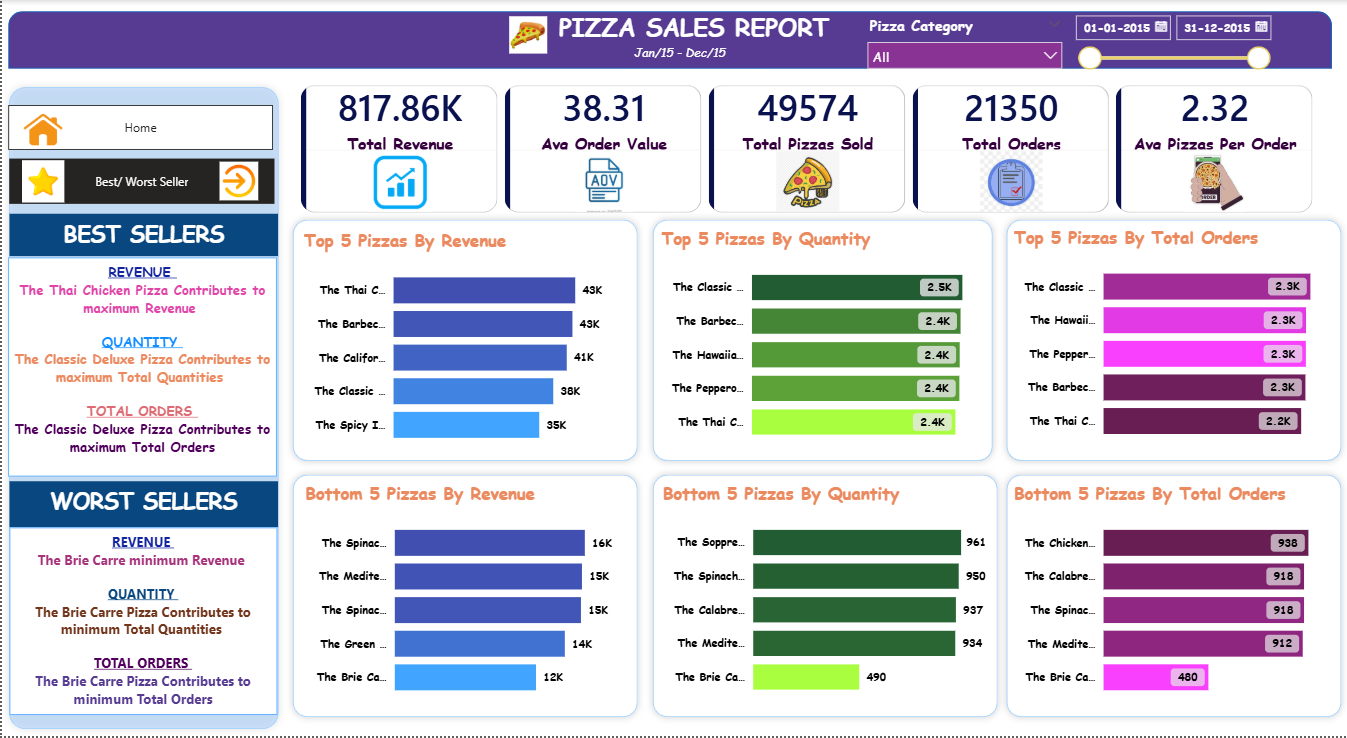

The page's visual inventory and layout, read from the dashboard file:
{"tool":"powerbi","page":{"name":"Best/ Worst Seller","canvas":[1500,820],"ordinal":1},"visuals":[{"type":"shape","box":[0,89.1,316.1,731.2],"z":0},{"type":"cardVisual","fields":{"Data":["pizza_sales.Total Revenue","pizza_sales.Avg Order Value","pizza_sales.Total Pizzas Sold","pizza_sales.Total Orders","pizza_sales.Avg Pizzas Per Order"]},"box":[316.1,78,1165.7,176.9],"z":1000},{"type":"shape","box":[7,12.5,1474.8,64.1],"z":2000},{"type":"textbox","box":[615.3,5.6,315.3,54.2],"z":3000},{"type":"textbox","box":[698.6,44.4,147.2,30.6],"z":4000},{"type":"image","box":[557.1,18.1,58.5,41.8],"z":5000},{"type":"shape","box":[316.7,236.1,400,284.7],"z":6000},{"type":"textbox","box":[8.4,238.1,299.4,47.4],"z":7000},{"type":"textbox","box":[7,286.9,299.4,243.7],"z":8000},{"type":"textbox","box":[8.4,536.2,299.4,51.5],"z":9000},{"type":"textbox","box":[8.4,587.7,298,208.9],"z":10000},{"type":"slicer","fields":{"Values":["pizza_sales.pizza_category"]},"box":[954.2,12.5,237.5,65.3],"z":11000},{"type":"slicer","fields":{"Values":["pizza_sales.order_date"]},"box":[1183.3,6.9,237.5,75],"z":12000},{"type":"shape","box":[716.7,236.1,394.4,284.7],"z":13000},{"type":"shape","box":[1111.1,236.1,388.9,284.7],"z":14000},{"type":"shape","box":[316.7,520.8,400,286.1],"z":15000},{"type":"shape","box":[716.7,520.8,400,286.1],"z":16000},{"type":"shape","box":[1111.1,520.8,388.9,286.1],"z":17000},{"type":"barChart","title":"Top 5 Pizzas By Revenue","fields":{"Category":["pizza_sales.pizza_name"],"Y":["pizza_sales.Total Revenue"]},"box":[331.9,254.2,366.7,254.2],"z":18000},{"type":"barChart","title":"Bottom 5 Pizzas By Revenue","fields":{"Category":["pizza_sales.pizza_name"],"Y":["pizza_sales.Total Revenue"]},"box":[333.3,536.1,366.7,254.2],"z":19000},{"type":"barChart","title":"Top 5 Pizzas By Quantity","fields":{"Category":["pizza_sales.pizza_name"],"Y":["pizza_sales.Total Pizzas Sold"]},"box":[729.8,252.1,370.5,253.5],"z":20000},{"type":"barChart","title":"Bottom 5 Pizzas By Quantity","fields":{"Category":["pizza_sales.pizza_name"],"Y":["pizza_sales.Total Pizzas Sold"]},"box":[731.2,536.2,370.5,253.5],"z":21000},{"type":"barChart","title":"Top 5 Pizzas By Total Orders","fields":{"Category":["pizza_sales.pizza_name"],"Y":["pizza_sales.Total Orders"]},"box":[1122.4,250.9,366.6,254.1],"z":22000},{"type":"barChart","title":"Bottom 5 Pizzas By Total Orders","fields":{"Category":["pizza_sales.pizza_name"],"Y":["pizza_sales.Total Orders"]},"box":[1122.4,535.5,366.6,254.1],"z":23000},{"type":"pageNavigator","box":[8.4,176.9,295.2,50.1],"z":24000},{"type":"pageNavigator","box":[7,117,295.2,50.1],"z":25000},{"type":"image","box":[242.3,176.9,43.2,50.1],"z":26000},{"type":"image","box":[22.3,117,47.4,50.1],"z":27000},{"type":"image","box":[22.3,176.9,47.4,50.1],"z":28000}]}

Visuals, with their boxes in screenshot pixels (x1, y1, x2, y2), scaled from the page's 1500x820 canvas onto the 1347x738 screenshot:
shape: crop(0, 80, 284, 737)
cardVisual - pizza_sales.Total Revenue x pizza_sales.Avg Order Value: crop(284, 70, 1331, 229)
shape: crop(6, 11, 1331, 69)
textbox: crop(553, 5, 836, 54)
textbox: crop(627, 40, 760, 68)
image: crop(500, 16, 553, 54)
shape: crop(284, 212, 644, 469)
textbox: crop(8, 214, 276, 257)
textbox: crop(6, 258, 275, 478)
textbox: crop(8, 483, 276, 529)
textbox: crop(8, 529, 275, 717)
slicer - pizza_sales.pizza_category: crop(857, 11, 1070, 70)
slicer - pizza_sales.order_date: crop(1063, 6, 1276, 74)
shape: crop(644, 212, 998, 469)
shape: crop(998, 212, 1346, 469)
shape: crop(284, 469, 644, 726)
shape: crop(644, 469, 1003, 726)
shape: crop(998, 469, 1346, 726)
"Top 5 Pizzas By Revenue" barChart: crop(298, 229, 627, 458)
"Bottom 5 Pizzas By Revenue" barChart: crop(299, 482, 629, 711)
"Top 5 Pizzas By Quantity" barChart: crop(655, 227, 988, 455)
"Bottom 5 Pizzas By Quantity" barChart: crop(657, 483, 989, 711)
"Top 5 Pizzas By Total Orders" barChart: crop(1008, 226, 1337, 454)
"Bottom 5 Pizzas By Total Orders" barChart: crop(1008, 482, 1337, 711)
pageNavigator: crop(8, 159, 273, 204)
pageNavigator: crop(6, 105, 271, 150)
image: crop(218, 159, 256, 204)
image: crop(20, 105, 63, 150)
image: crop(20, 159, 63, 204)
